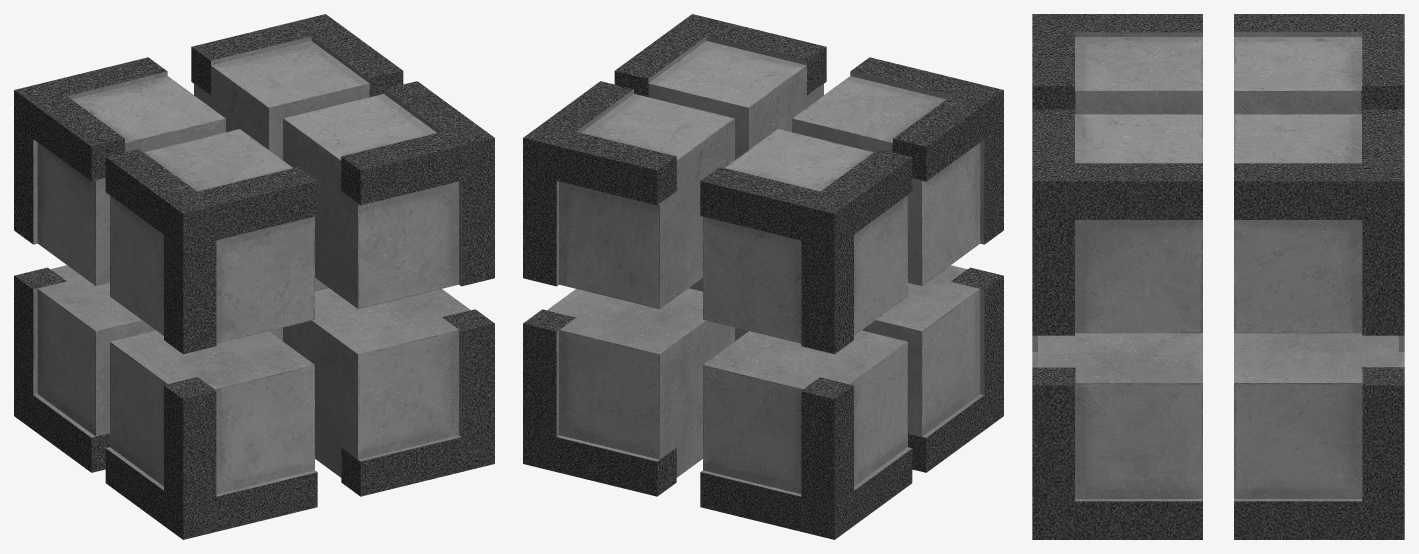
File: cube exp.gltf
3 views of the same model, side by side, from view 1: azimuth 30°, elevation 25°; view 2: azimuth 150°, elevation 25°; view 3: azimuth 270°, elevation 25° (orthographic). The views are drawn at different scales.
Visible parts, largest first — view 1: cubeMetal; view 2: cubeMetal; view 3: cubeMetal.
Part boxes in pixels (<box>): cubeMetal: <box>14,14,494,539</box>; cubeMetal: <box>523,14,1003,539</box>; cubeMetal: <box>1032,14,1404,539</box>.
Bounding box in the file's own units: 0.836 × 0.836 × 0.786.
1 material, 1 textured.
